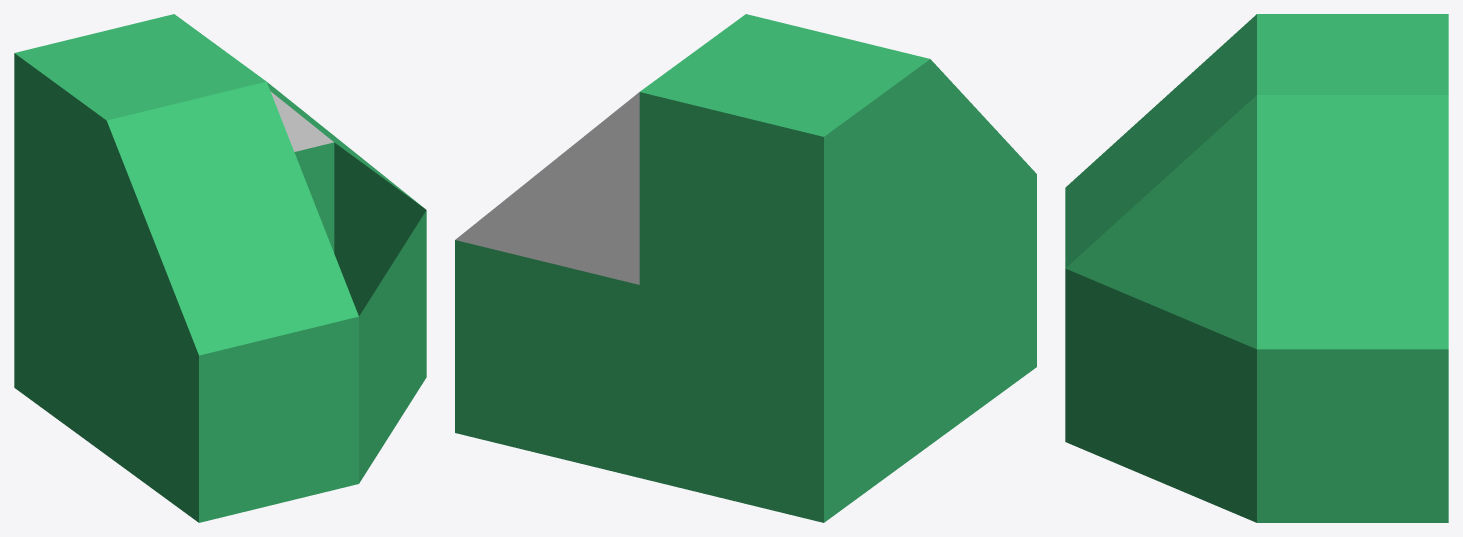
Rendered from r5c6_body_green.gltf.
3 renders of one model, left to right at view 1: azimuth 30°, elevation 25°; view 2: azimuth 150°, elevation 25°; view 3: azimuth 270°, elevation 25°, orthographic. The views are drawn at different scales.
Parts seen in each view (by area): view 1: r5c6_body_green; view 2: r5c6_body_green; view 3: r5c6_body_green.
Part boxes in pixels (x1,y1,x2,y2): r5c6_body_green: (14,14,426,522); r5c6_body_green: (455,14,1036,522); r5c6_body_green: (1065,14,1448,522).
Size of the model in its own units: 2 by 2 by 2.
1 material, 1 textured.
